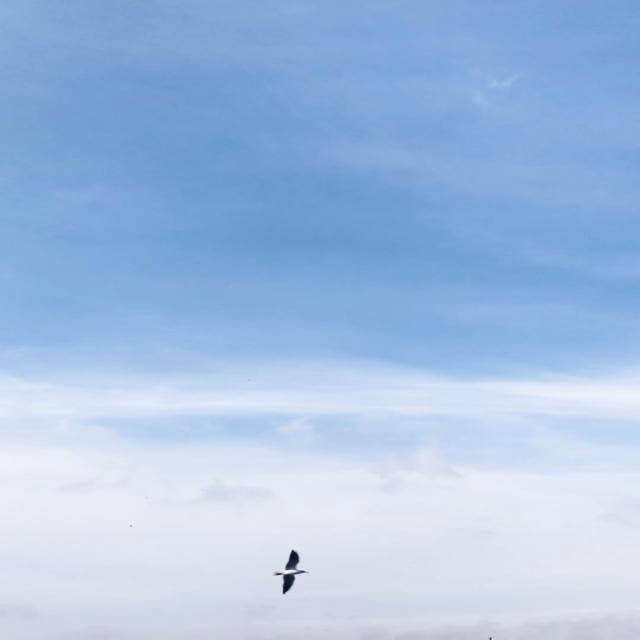bird: (262, 543, 315, 607)
